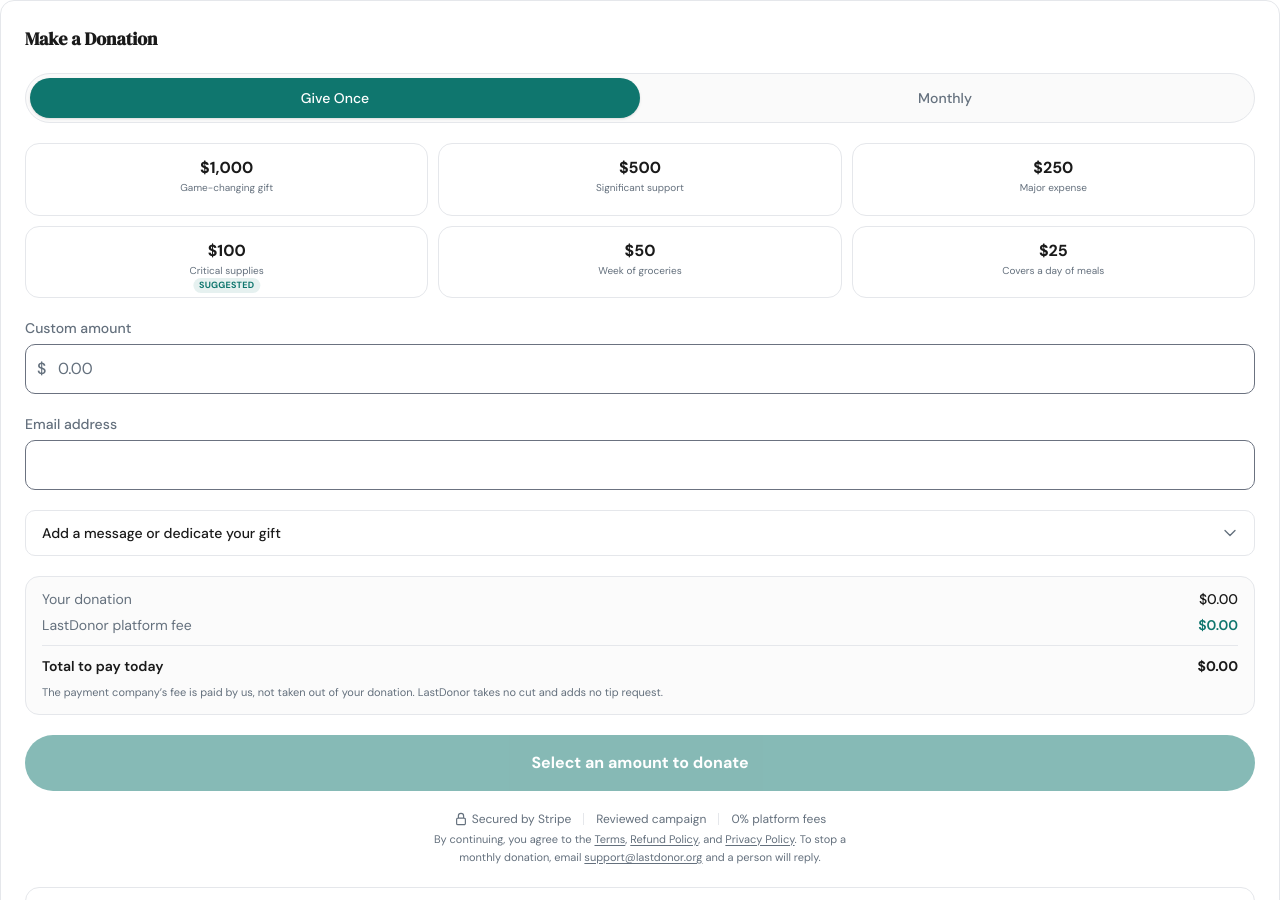
Test: DonationForm › shows amount in submit button after selection
The width and height of the screenshot is (1280, 900).
What coordinates should you click on to do the following:
click the text "$25"
I would click on:
 (1053, 250)
Its box is [1039, 238, 1068, 262].
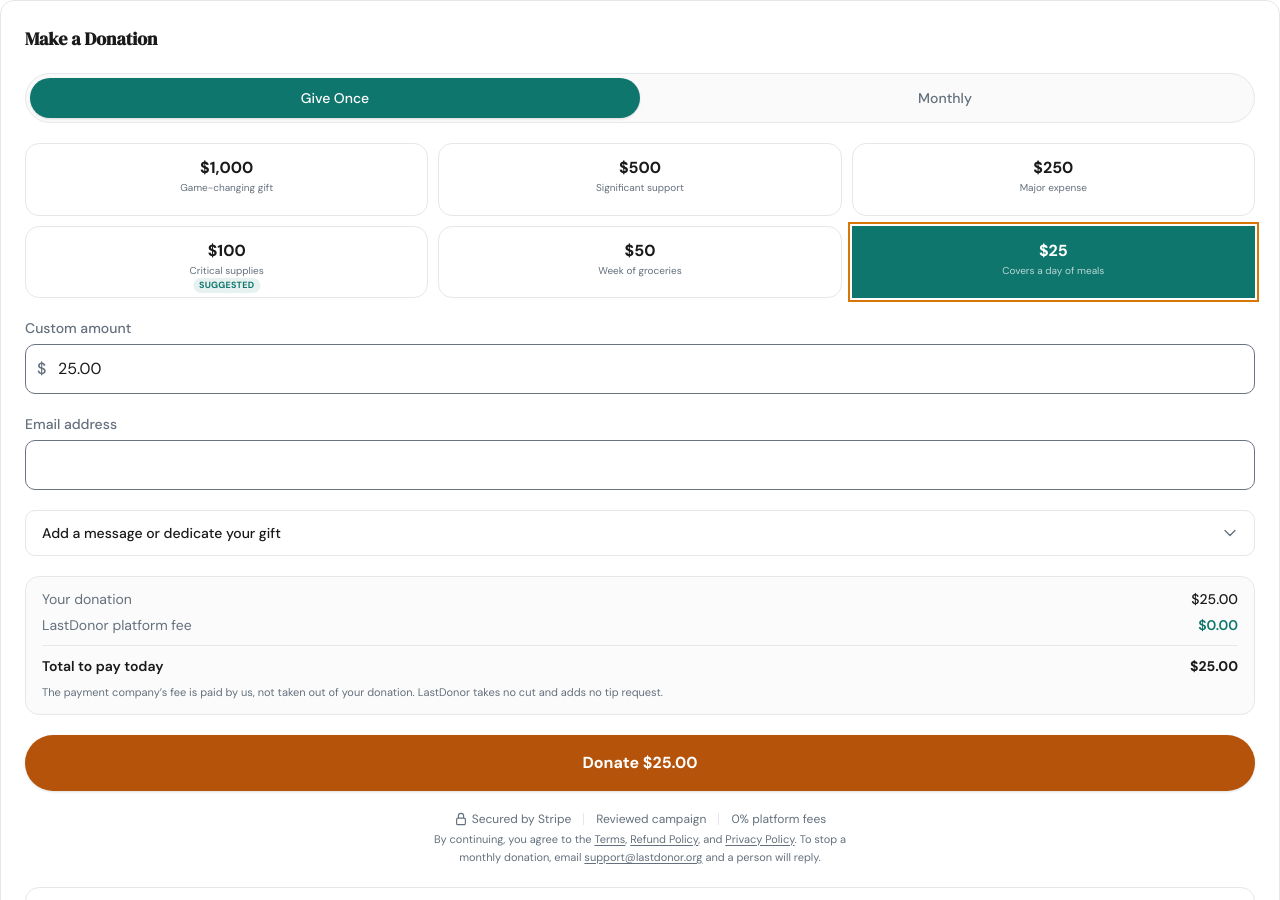
Now the button "Donate $25.00" is shown, box [25, 735, 1255, 791]
